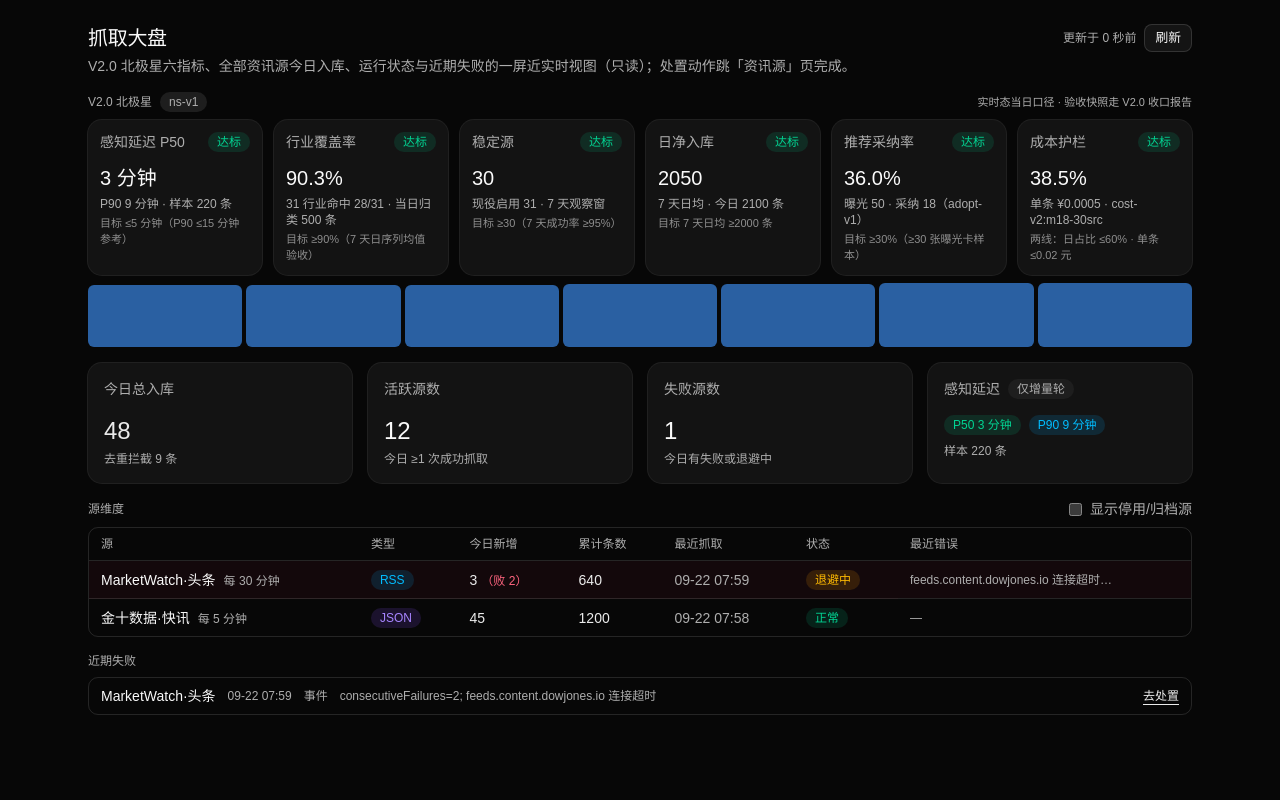
it: FeedDashboard 大盘三处数字弹框（V2.4 T214，REQ-20260928-20 拍板三） › 对账③ 源行「累计条数」可点：sourceId + l0=ALL 无时间窗，标题 total == 行数字
expect the row with test id "dashboard-source-row-jin10_flash" is shown: met, box [89, 599, 1191, 636]
What coordinates should you click on to do the following:
click the button with test id "dashboard-source-total-jin10_flash"
I would click on:
 (594, 618)
Its box is [579, 608, 610, 628].
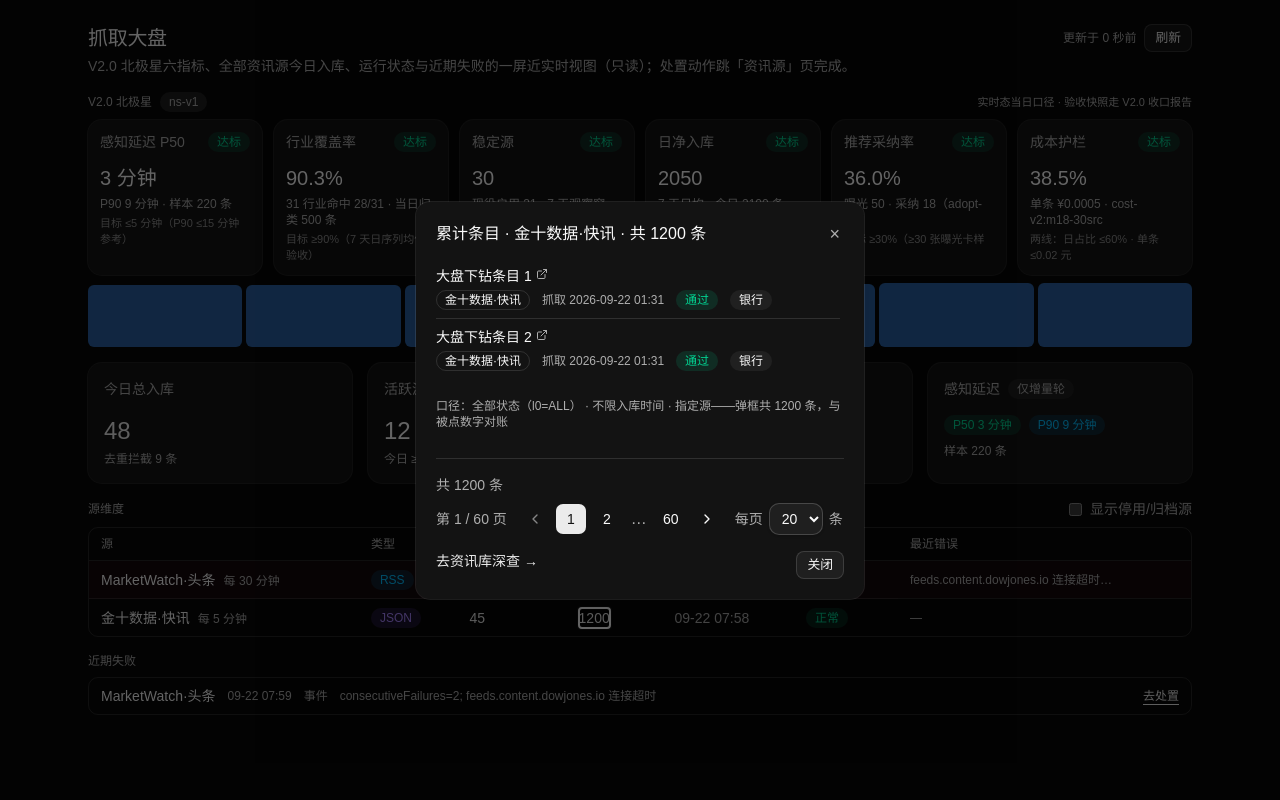
expect the dialog shows "累计条目 · 金十数据·快讯": met, box [436, 224, 706, 242]
